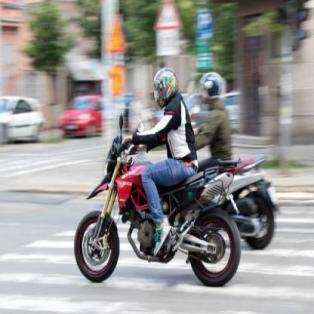Motocicleta: (71, 131, 241, 291)
